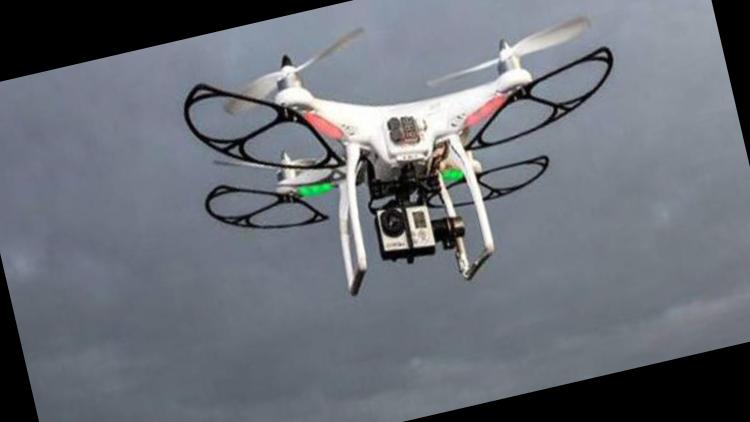drone: (112, 0, 640, 280)
